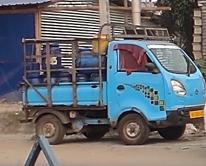Truck: (17, 23, 206, 148)
